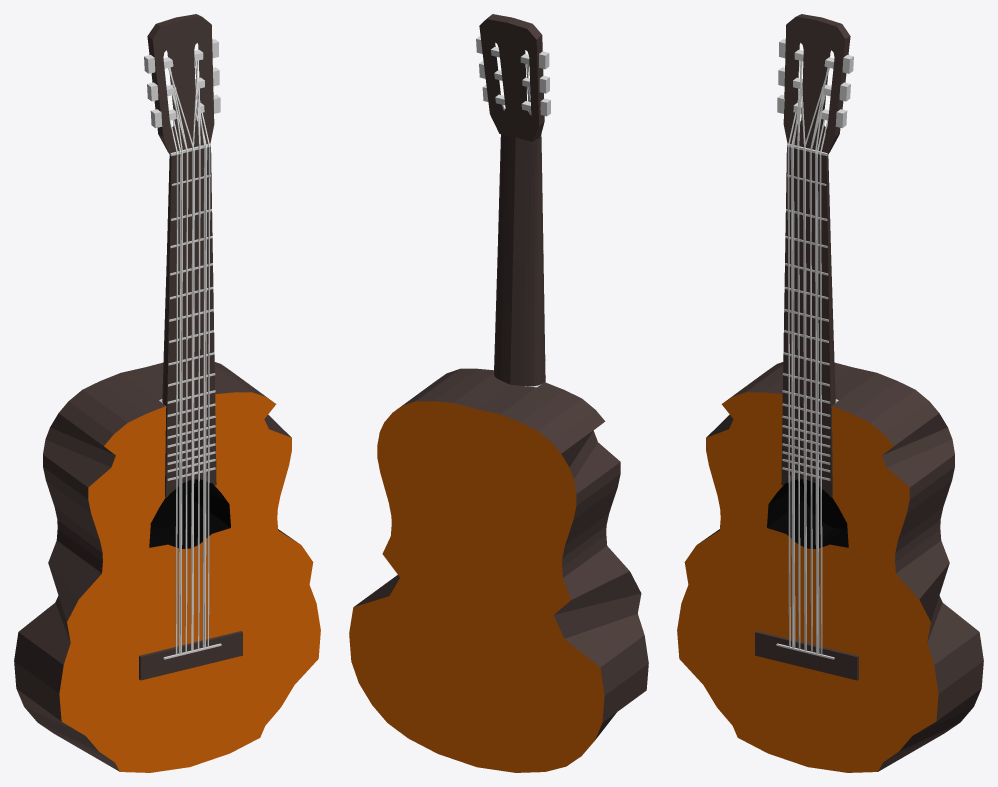
Rendered from guitar_stage2.fbx.
3 views of the same model, side by side, from view 1: azimuth 30°, elevation 25°; view 2: azimuth 150°, elevation 25°; view 3: azimuth 330°, elevation 25° (orthographic). The views are drawn at different scales.
Visible parts, largest first — view 1: guitar_stage2; view 2: guitar_stage2; view 3: guitar_stage2.
Part boxes in pixels (x1,y1,x2,y2): guitar_stage2: (14,14,320,772); guitar_stage2: (349,14,648,772); guitar_stage2: (677,14,983,772).
Size of the model in its own units: 77.31 by 209 by 25.1.
